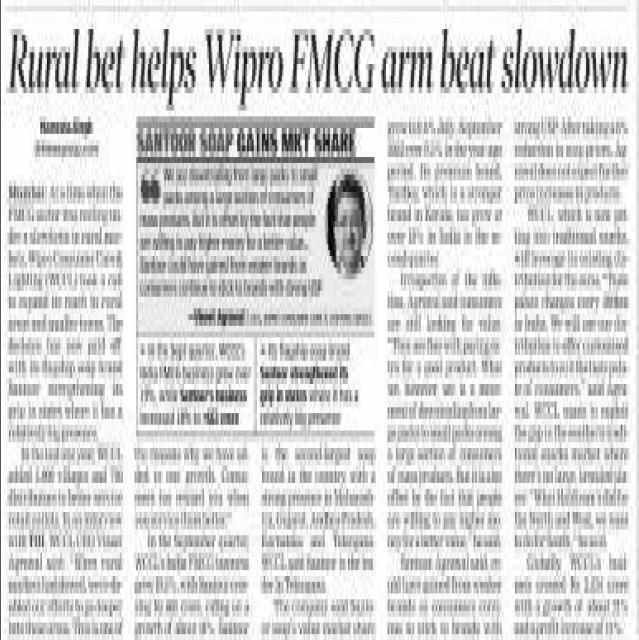paper: (1, 0, 639, 640)
